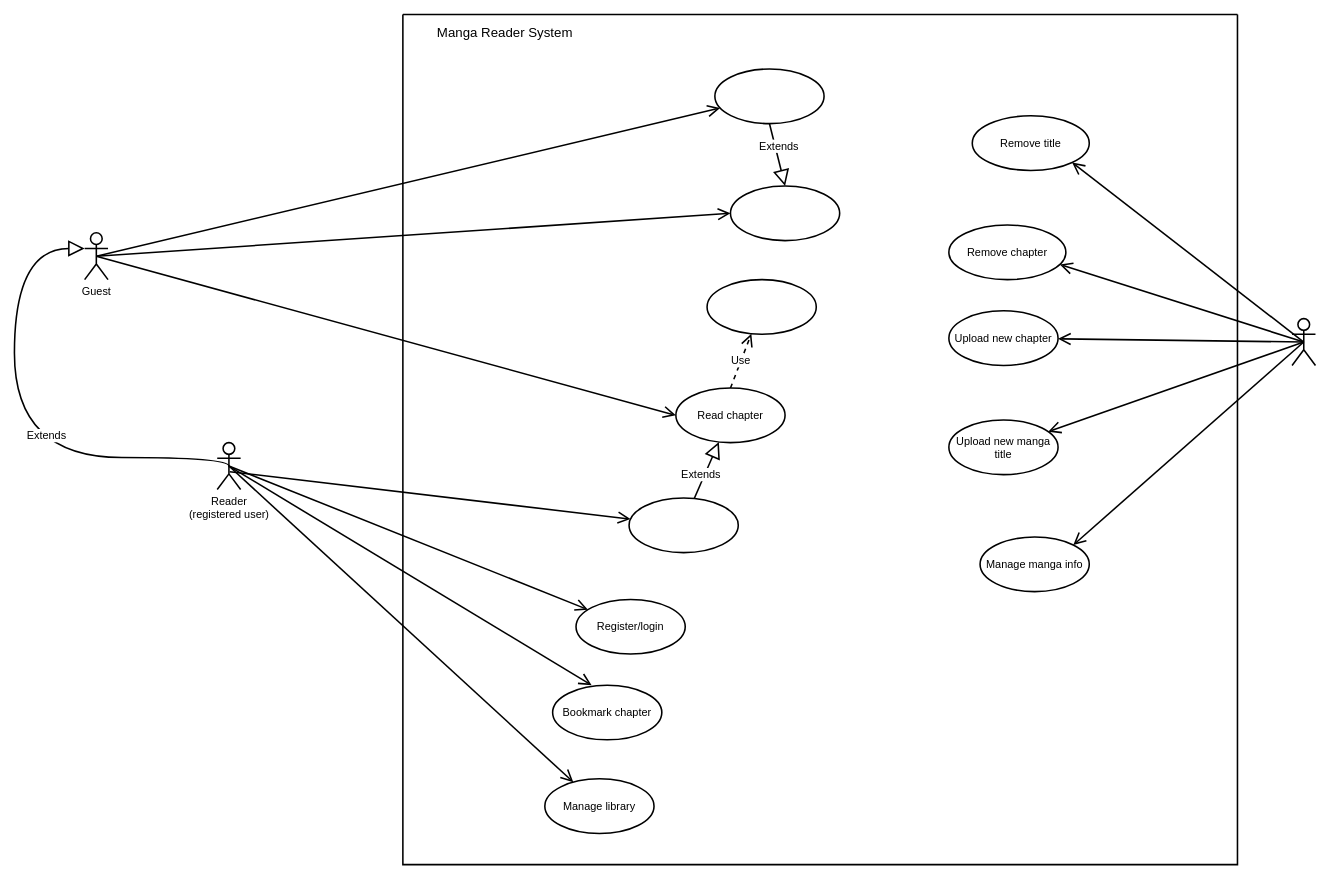
Image size: 1332x878. Some labels were removed from this diagram. Each missing label, with the centre of its shape:
"Admin" goes at [1303,341].
"Filter by genre" goes at [769,96].
"Load Manga Page Images" goes at [761,306].
"Save reading progress" goes at [683,525].
"Search manga" goes at [784,213].
